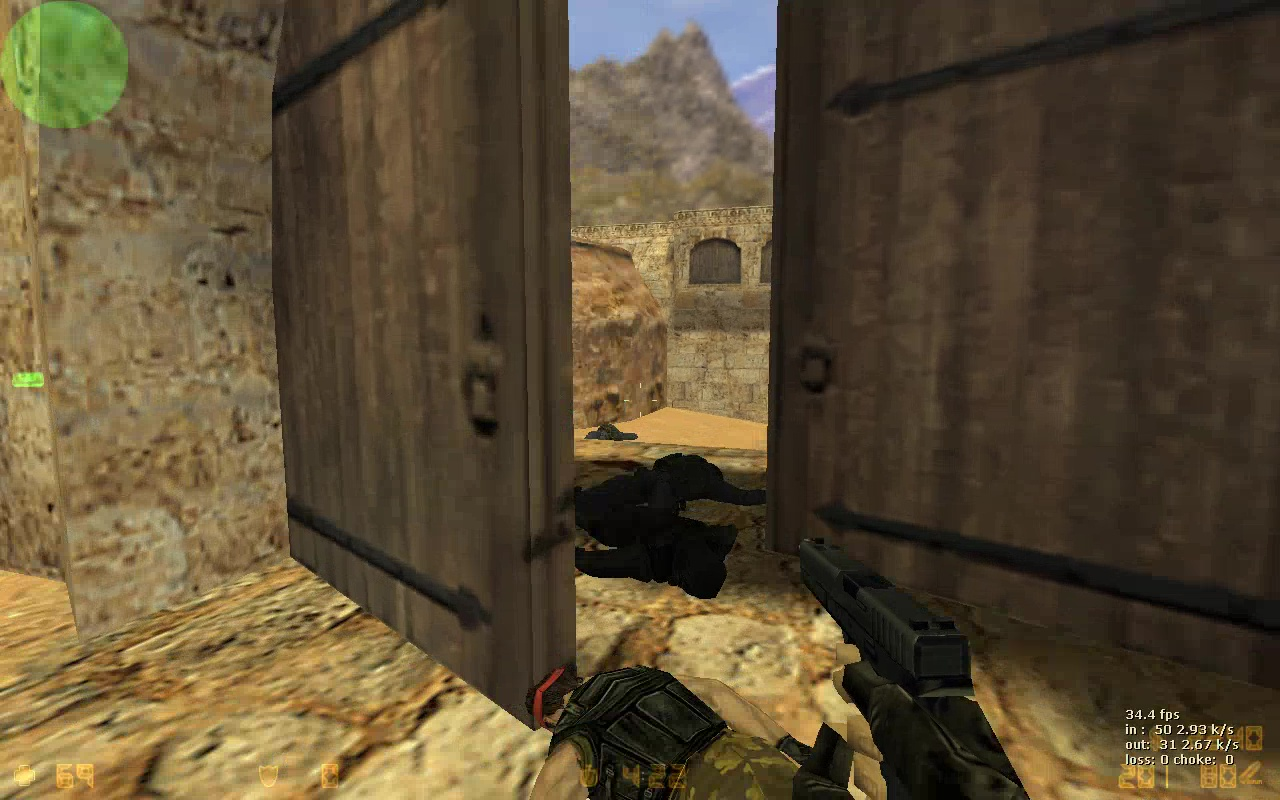dead: (575, 453, 741, 592)
